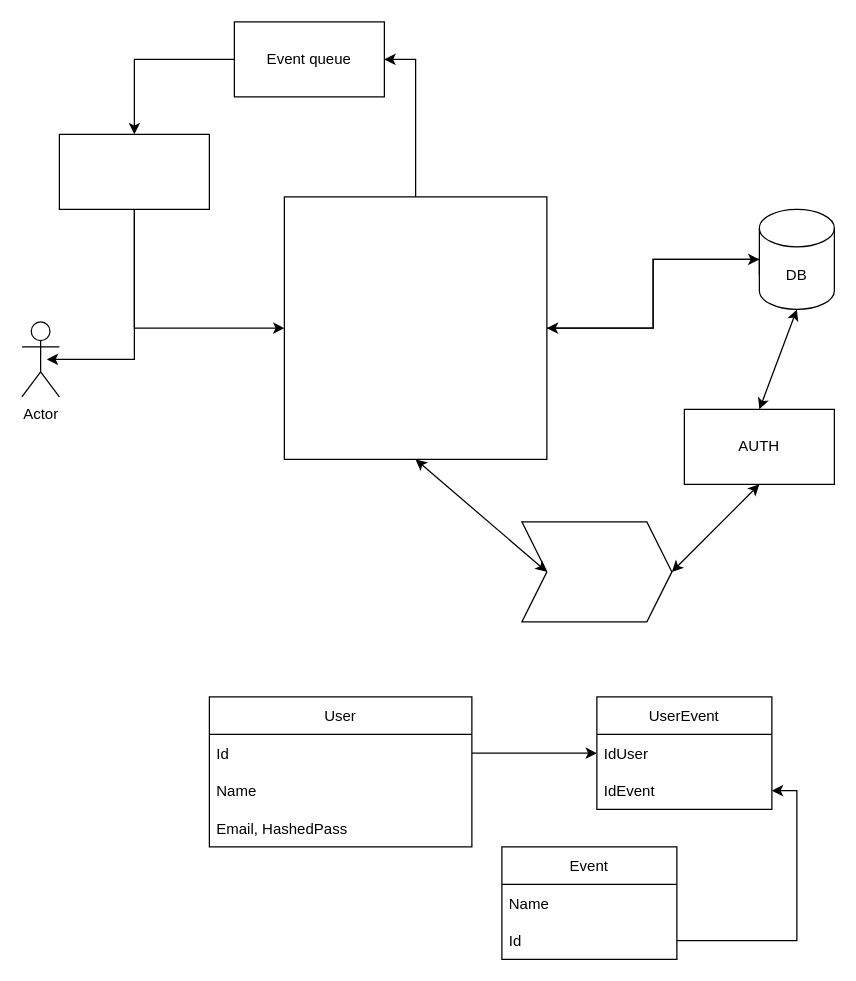
Image size: 856x981. Some labels were removed from this diagram. Each missing label, with the centre of its shape:
"React" goes at point (596, 571).
"REST API" goes at point (415, 327).
"Sender" goes at point (133, 171).
